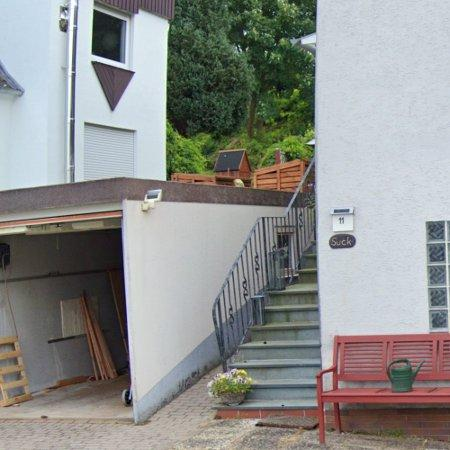stairs: (231, 249, 322, 410)
